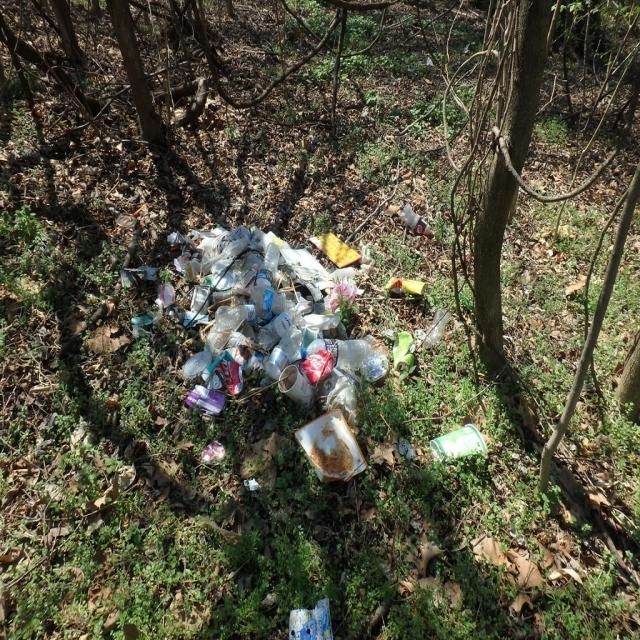Plastics: (162, 197, 412, 502)
